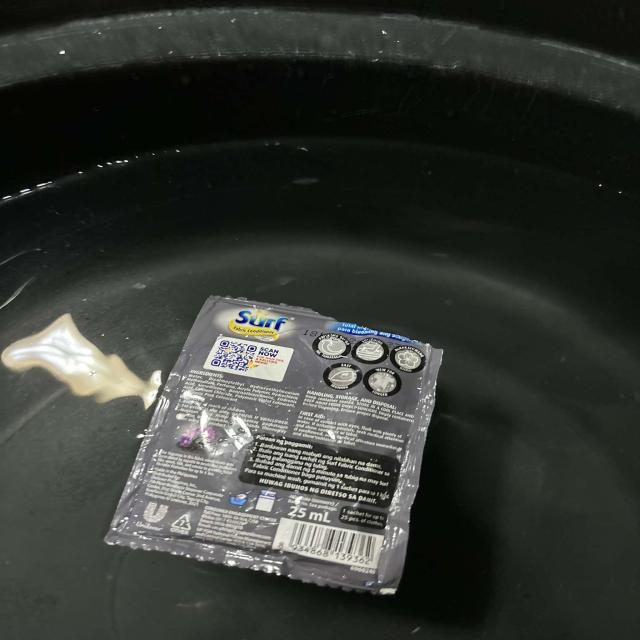Plastic Wrapper: (94, 281, 464, 615)
